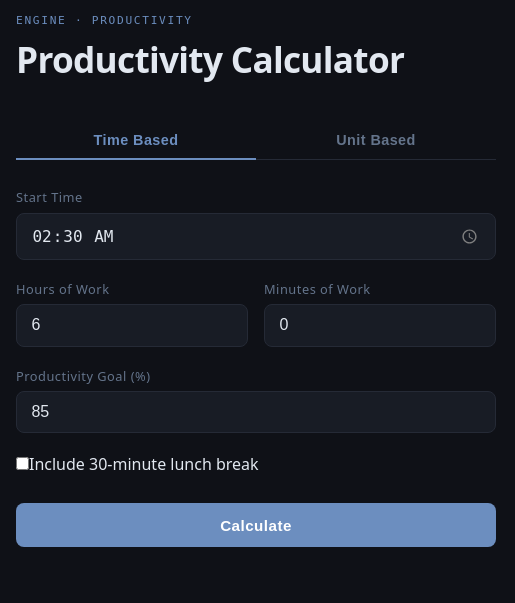
it: CalculatorPage › shows error on unit_based failure
Click the tab "Unit Based".
click(376, 141)  # box [256, 121, 496, 160]
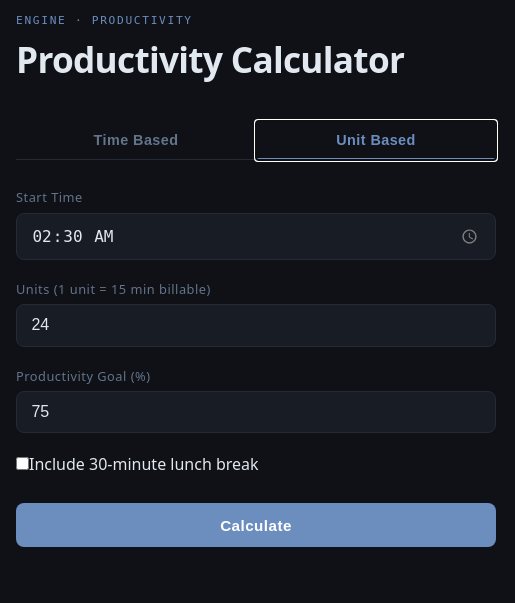
Click the button "Calculate".
click(256, 525)  # box [16, 503, 496, 548]
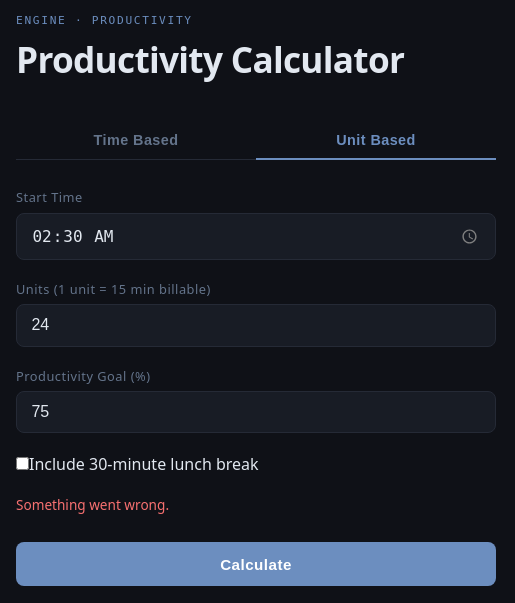
Expected: the text "Something went wrong." is shown, [16, 495, 169, 514]
